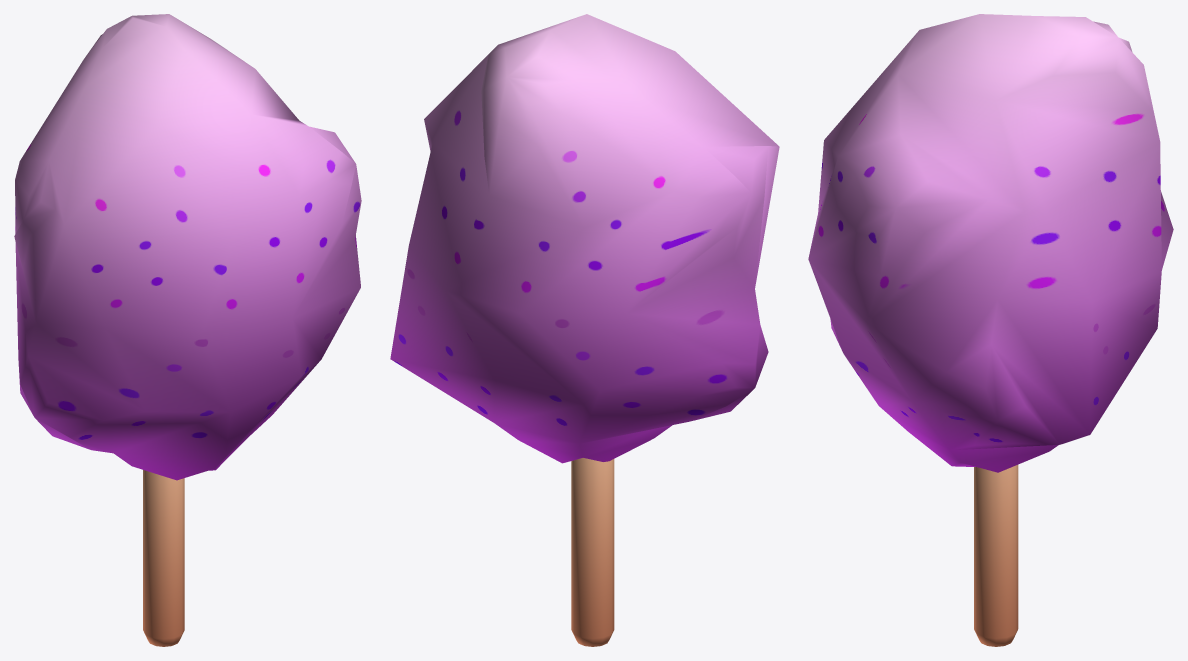
The model's file is Cotton Candy.fbx.
3 renders of one model, left to right at view 1: azimuth 30°, elevation 25°; view 2: azimuth 150°, elevation 25°; view 3: azimuth 270°, elevation 25°, orthographic. The views are drawn at different scales.
Parts seen in each view (by area): view 1: Cotton Candy; view 2: Cotton Candy; view 3: Cotton Candy.
Part boxes in pixels (bbox=[...]): Cotton Candy: bbox=[14, 14, 361, 646]; Cotton Candy: bbox=[390, 14, 779, 646]; Cotton Candy: bbox=[808, 14, 1173, 646].
Bounding box in the file's own units: 16.74 × 30.02 × 15.55.
